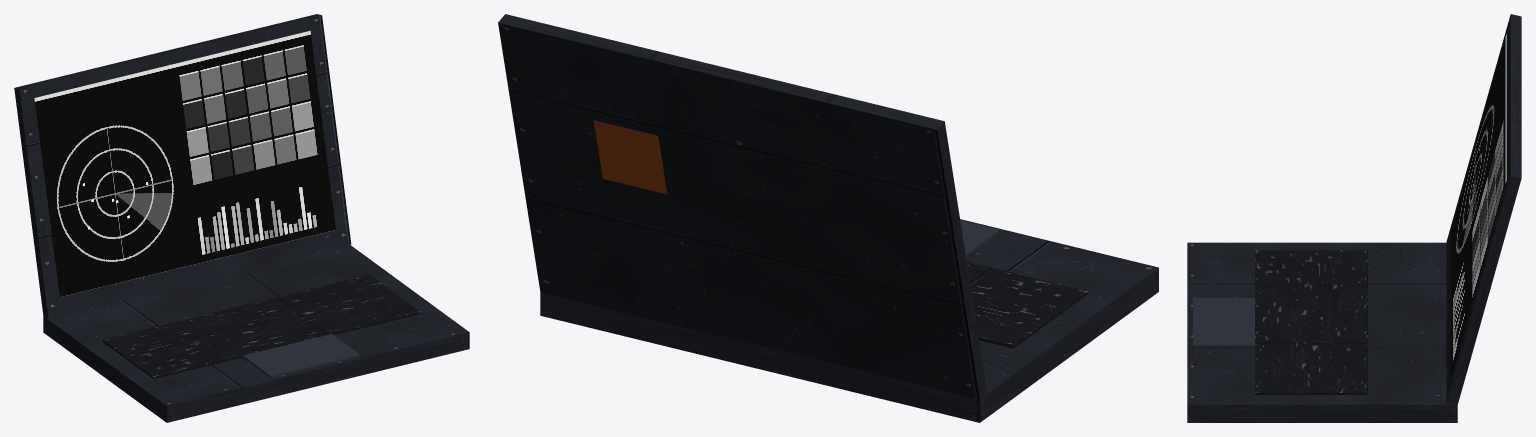
The model's file is Tech_Laptop.gltf.
3 views of the same model, side by side, from view 1: azimuth 30°, elevation 25°; view 2: azimuth 150°, elevation 25°; view 3: azimuth 270°, elevation 25° (orthographic). The views are drawn at different scales.
Visible parts, largest first — view 1: Tech_Laptop; view 2: Tech_Laptop; view 3: Tech_Laptop.
Part boxes in pixels (left/top/right/bottom): Tech_Laptop: left=14, top=14, right=469, bottom=422; Tech_Laptop: left=498, top=14, right=1158, bottom=422; Tech_Laptop: left=1187, top=14, right=1521, bottom=422.
Bounding box in the file's own units: 0.34 × 0.2421 × 0.2967.
Materials: 5 (3 with a texture image).
